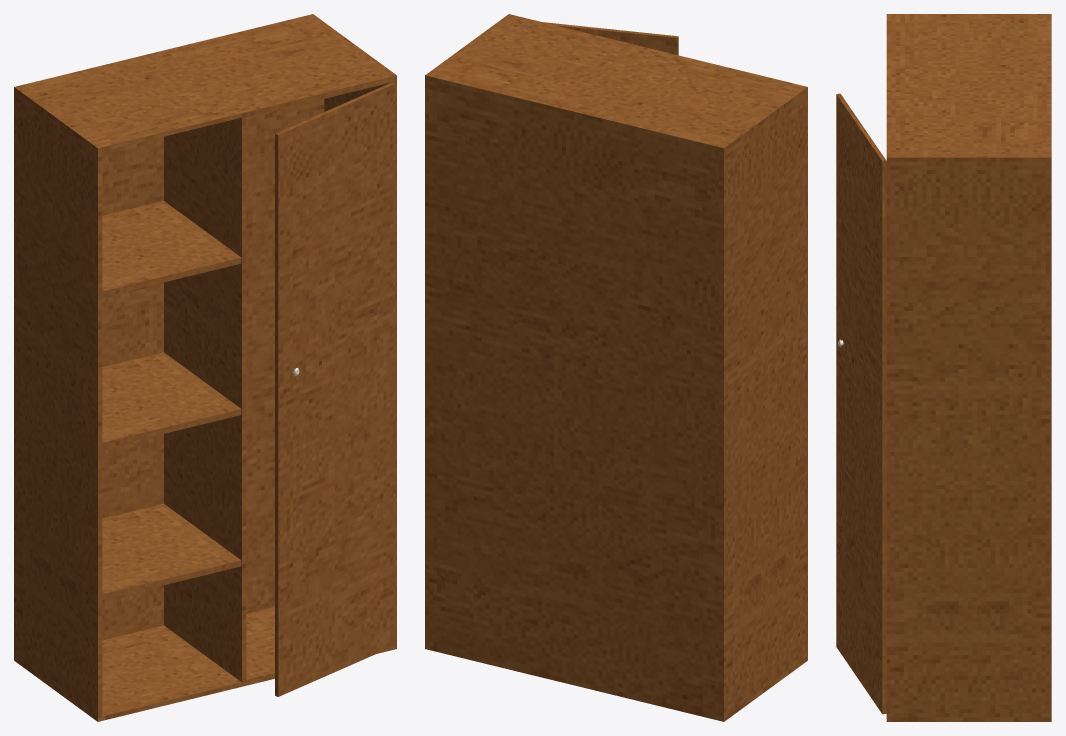
The model's file is Wardrobe.fbx.
The picture shows the model from 3 angles, left to right: view 1: azimuth 30°, elevation 25°; view 2: azimuth 150°, elevation 25°; view 3: azimuth 270°, elevation 25°; orthographic projection.
Visible parts, largest first — view 1: Wardrobe, WardrobeDoor; view 2: Wardrobe, WardrobeDoor; view 3: Wardrobe, WardrobeDoor.
Part boxes in pixels (x1=…): Wardrobe: x1=14, y1=14, x2=396, y2=721; WardrobeDoor: x1=275, y1=82, x2=394, y2=696; Wardrobe: x1=425, y1=14, x2=807, y2=721; WardrobeDoor: x1=542, y1=22, x2=678, y2=55; Wardrobe: x1=886, y1=14, x2=1051, y2=721; WardrobeDoor: x1=836, y1=93, x2=886, y2=714.
Bounding box in the file's own units: 120 × 220 × 76.03.
Materials: 1 (1 with a texture image).
